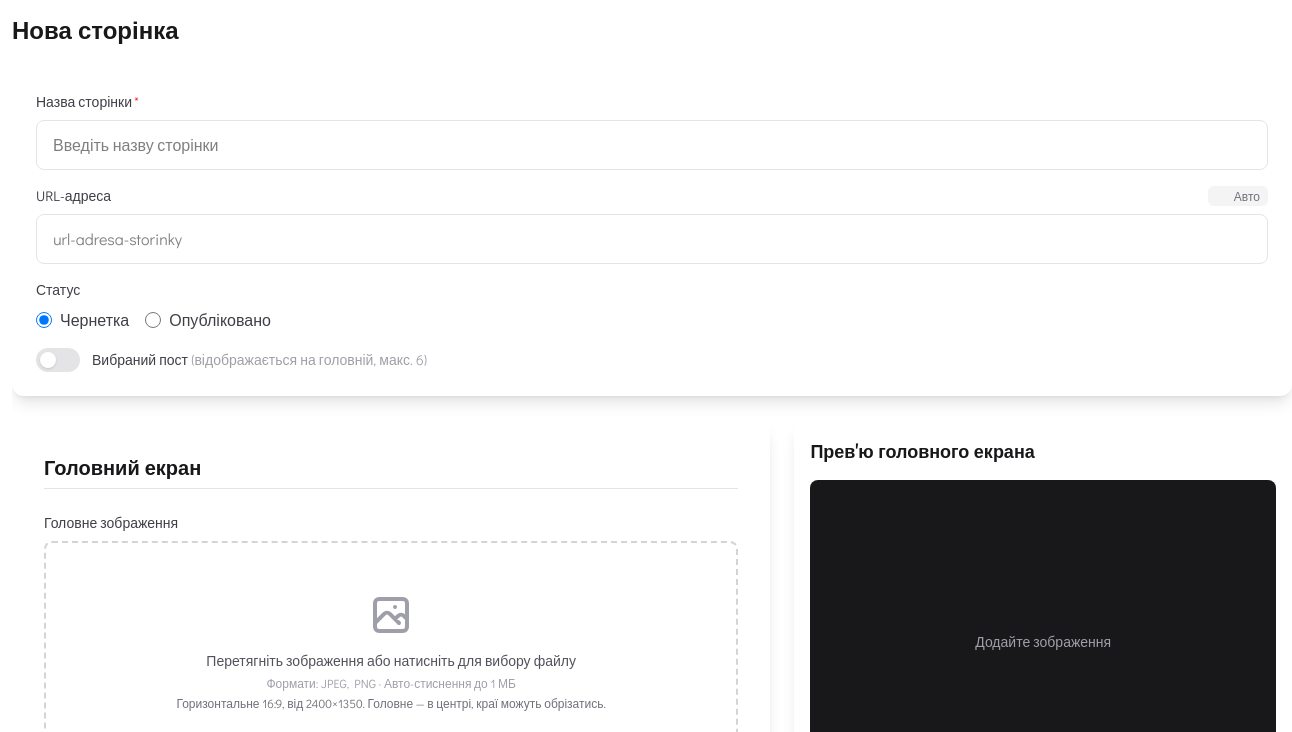
Scenario: EditPostPage › defaults status to draft and switches to published on selection
Check: the radio button labelled "Чернетка" is checked, box 36,312 -> 52,328
Click the radio button labelled "Опубліковано". click: (153, 320)
box: 145,312 -> 161,328
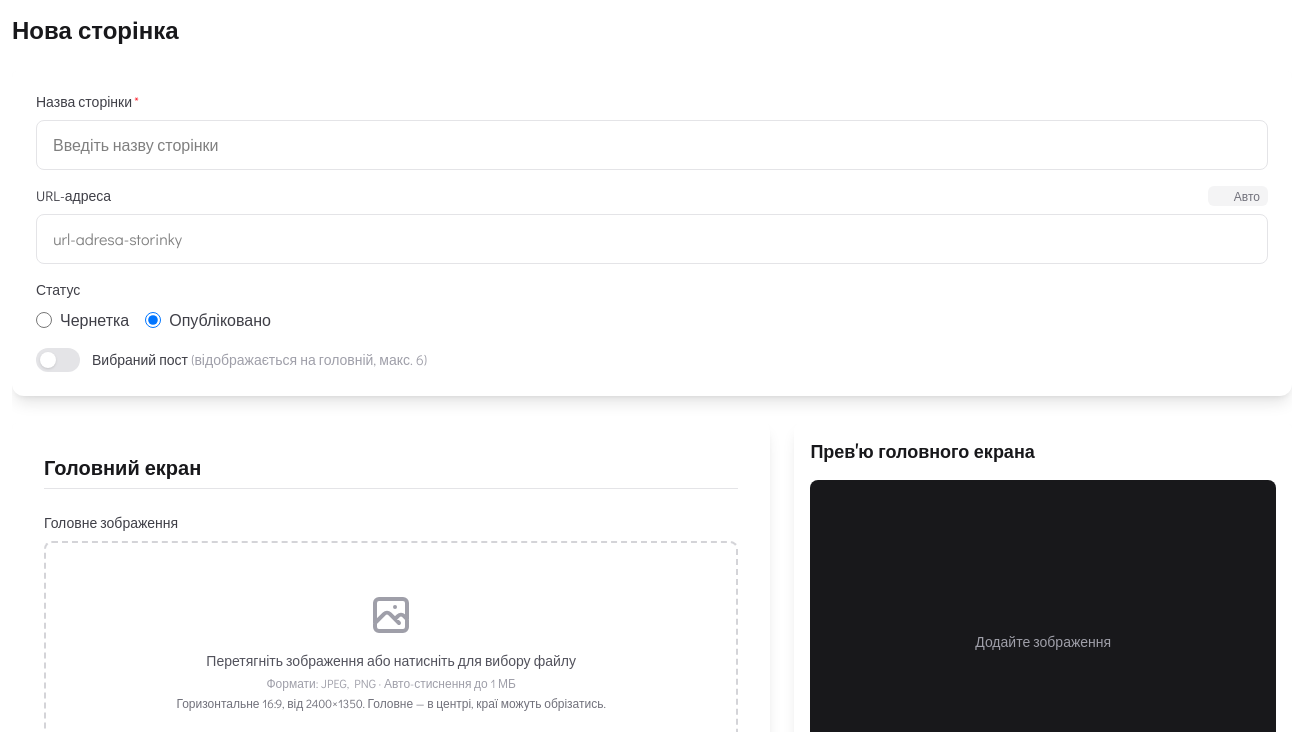
Check: the radio button labelled "Опубліковано" is checked, box 145,312 -> 161,328
Check: the radio button labelled "Чернетка" is not checked, box 36,312 -> 52,328
